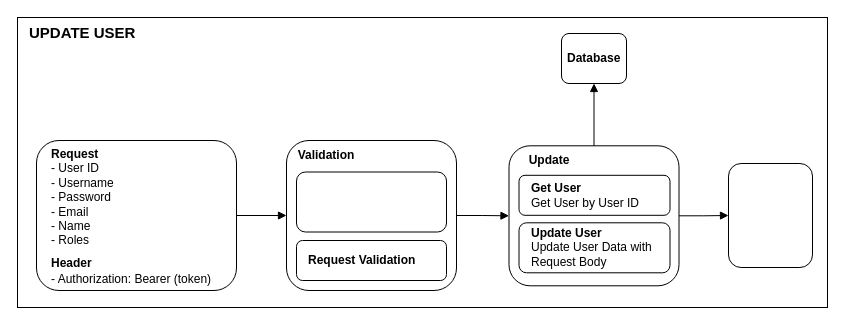
Image size: 845x325. Some labels were removed from this diagram. The centre of each missing label's shape, as x and y in pixels:
Middleware Validation - Login (Auth) - Has Role: Admin: the point at 371,201
Response - ID - Username - Email - Roles: the point at 770,215
